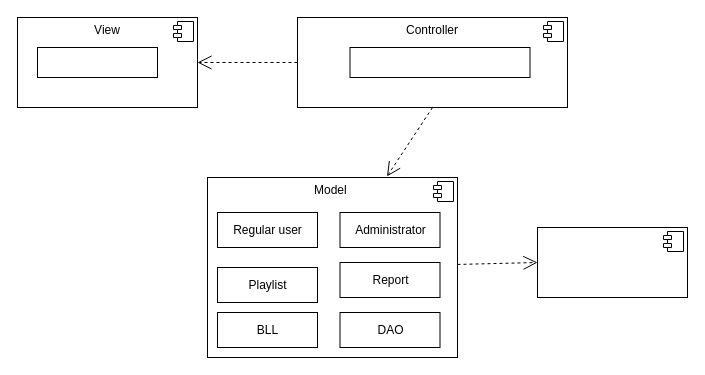
Image size: 705x375. Some labels were removed from this diagram. Each missing label, with the centre of its shape:
Admin, User, Login Controllers: the point at 439,62
Playlist Generator Database: the point at 612,262
User Interface Files:: the point at 97,62
